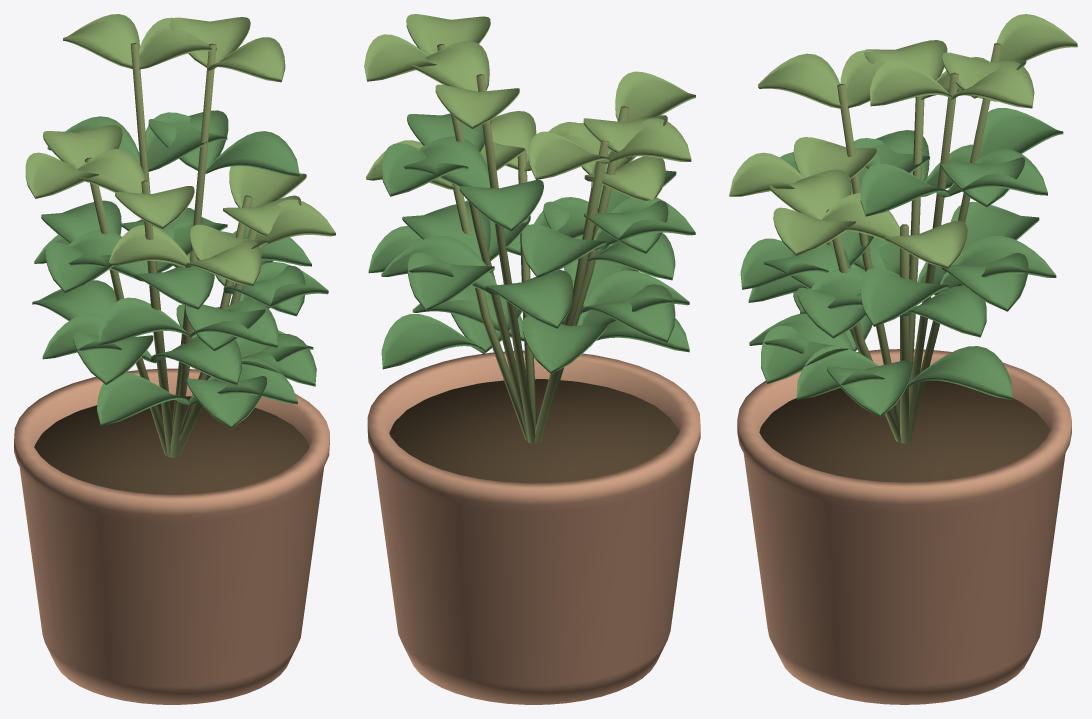
File: basil.glb
3 views of the same model, side by side, from view 1: azimuth 30°, elevation 25°; view 2: azimuth 150°, elevation 25°; view 3: azimuth 270°, elevation 25° (orthographic). The views are drawn at different scales.
Parts seen in each view (by area): view 1: basil__body, basil__leaves, basil__young_leaves, basil__soil, basil__stems; view 2: basil__body, basil__leaves, basil__young_leaves, basil__soil, basil__stems; view 3: basil__body, basil__leaves, basil__young_leaves, basil__soil, basil__stems.
Part boxes in pixels (box(x1,y1,x2,y2)): basil__body: box(14, 368, 329, 704); basil__leaves: box(32, 110, 328, 428); basil__young_leaves: box(25, 14, 335, 286); basil__soil: box(34, 396, 309, 494); basil__stems: box(84, 43, 256, 457); basil__body: box(367, 350, 700, 704); basil__leaves: box(368, 113, 695, 373); basil__young_leaves: box(364, 14, 695, 200); basil__soil: box(389, 379, 679, 483); basil__stems: box(437, 44, 629, 443); basil__body: box(737, 349, 1071, 704); basil__leaves: box(740, 108, 1063, 417); basil__young_leaves: box(729, 14, 1077, 268); basil__soil: box(759, 380, 1049, 482); basil__stems: box(826, 43, 1001, 443).
Size of the model in its own units: 0.1552 by 0.305 by 0.1561.
